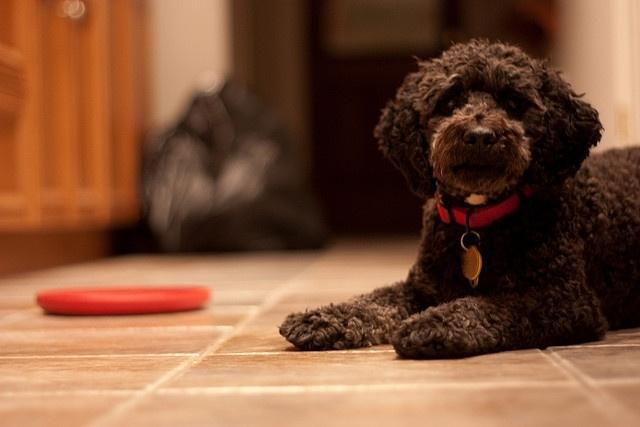dog: (280, 40, 639, 356)
